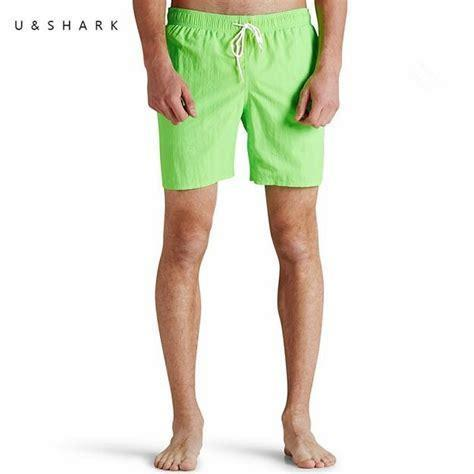short: (161, 8, 327, 192)
